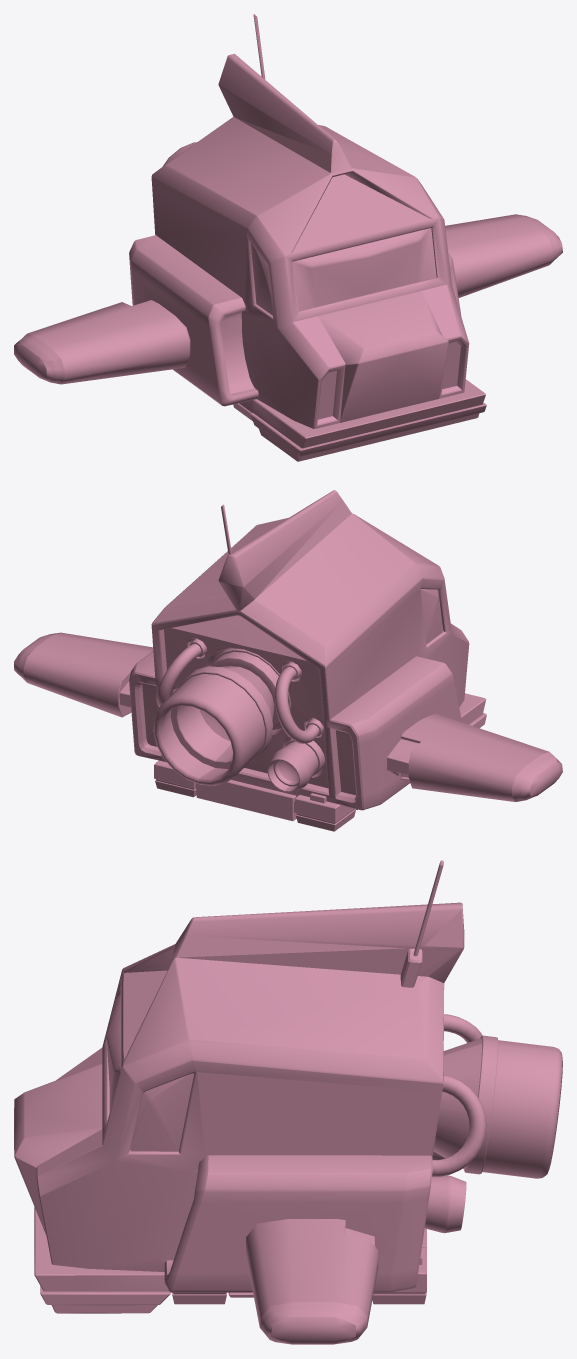
The model's file is spaceship-v1.glb.
3 views of the same model, one above another, from view 1: azimuth 30°, elevation 25°; view 2: azimuth 150°, elevation 25°; view 3: azimuth 270°, elevation 25° (orthographic). The views are drawn at different scales.
Visible parts, largest first — view 1: ship.001; view 2: ship.001; view 3: ship.001.
Boxes of the visible parts, x1=… form: ship.001: x1=14, y1=14, x2=562, y2=461; ship.001: x1=14, y1=490, x2=562, y2=831; ship.001: x1=14, y1=860, x2=562, y2=1344.
Size of the model in its own units: 449 by 257 by 315.
